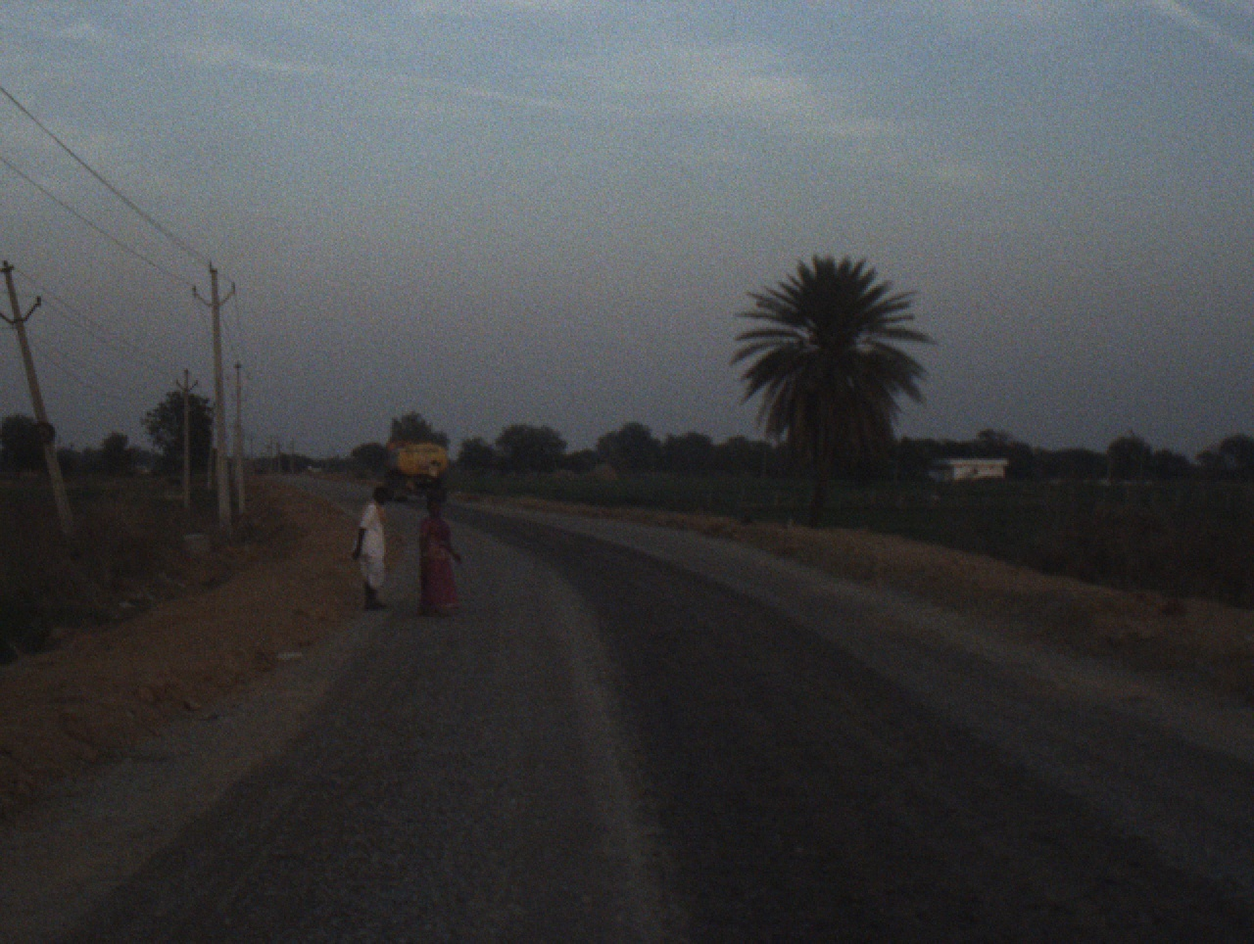person: (416, 496, 465, 619), (351, 477, 392, 617)
truck: (374, 429, 451, 506)
